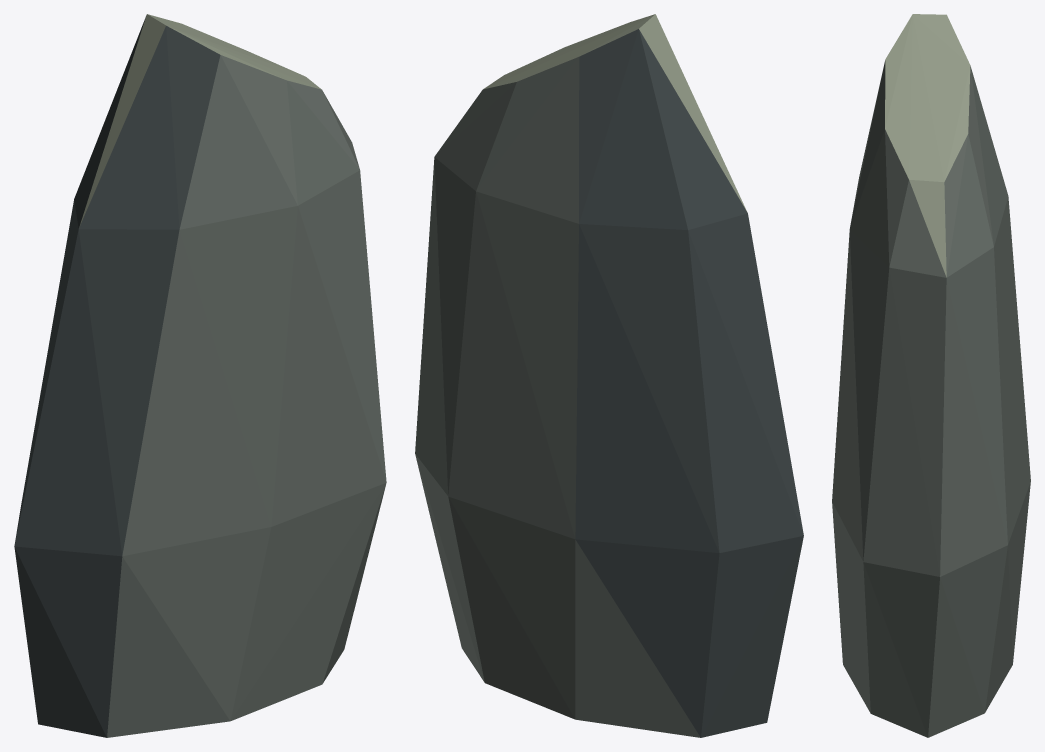
Rendered from TW_ROCK_UPRIGHT_B_LOD0.glb.
3 views of the same model, side by side, from view 1: azimuth 30°, elevation 25°; view 2: azimuth 150°, elevation 25°; view 3: azimuth 270°, elevation 25° (orthographic). The views are drawn at different scales.
Parts seen in each view (by area): view 1: TW_ROCK_UPRIGHT_B_LOD0; view 2: TW_ROCK_UPRIGHT_B_LOD0; view 3: TW_ROCK_UPRIGHT_B_LOD0.
Boxes of the visible parts, x1,y1,x2,y2 form: TW_ROCK_UPRIGHT_B_LOD0: (14,14,386,737); TW_ROCK_UPRIGHT_B_LOD0: (415,14,803,737); TW_ROCK_UPRIGHT_B_LOD0: (832,14,1030,737).
Bounding box in the file's own units: 1.08 × 1.85 × 0.5215.
Materials: 1 (1 with a texture image).
